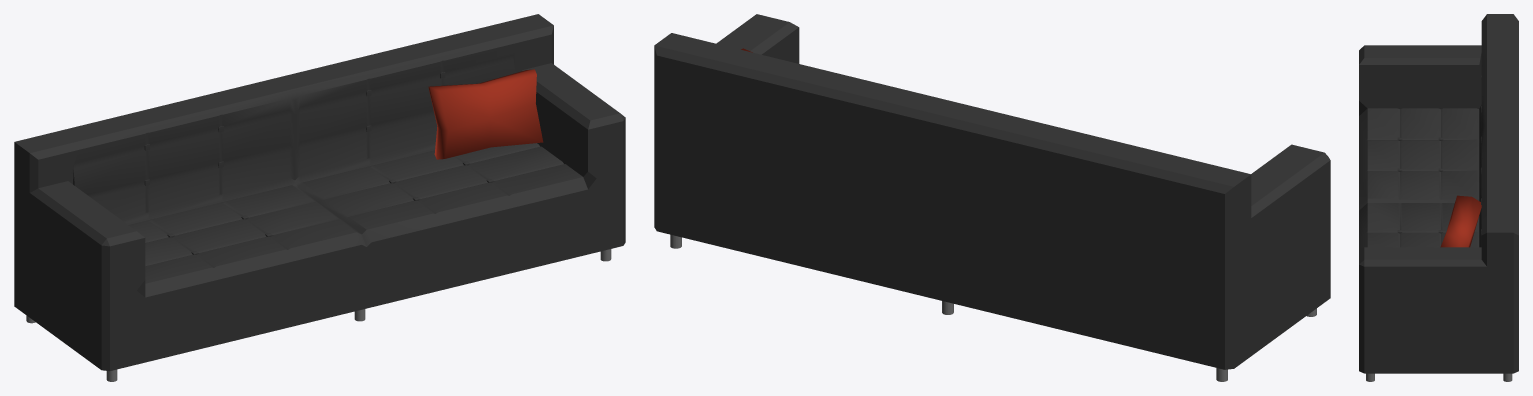
The model's file is Timry.Couch.fbx.
The picture shows the model from 3 angles, left to right: view 1: azimuth 30°, elevation 25°; view 2: azimuth 150°, elevation 25°; view 3: azimuth 270°, elevation 25°; orthographic projection. The views are drawn at different scales.
Parts seen in each view (by area): view 1: couch, pillow; view 2: couch; view 3: couch, pillow.
Boxes of the visible parts, x1,y1,x2,y2 form: couch: [14, 14, 625, 381]; pillow: [428, 69, 543, 159]; couch: [654, 14, 1330, 381]; couch: [1359, 14, 1518, 381]; pillow: [1440, 195, 1481, 247].
Size of the model in its own units: 844 by 277 by 260.
